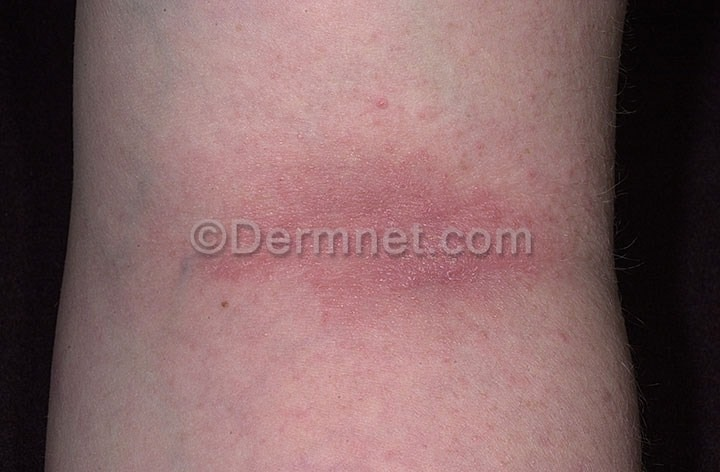Eczema: (128, 77, 604, 382)
